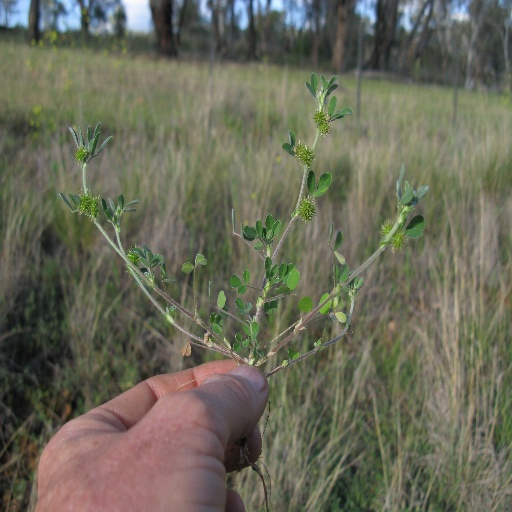hand: (37, 363, 269, 512)
